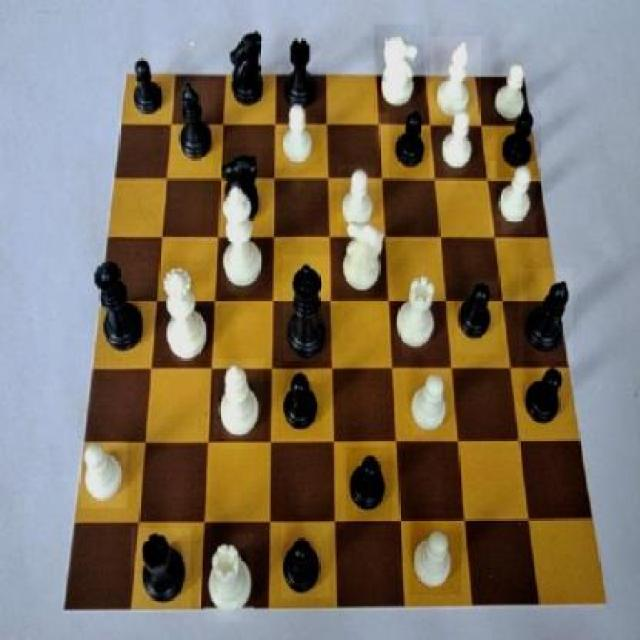bishop: (520, 268, 574, 360), (169, 81, 216, 174)
black-bishop: (283, 256, 332, 362)
black-king: (214, 148, 266, 234), (226, 23, 269, 115)
black-knight: (282, 524, 331, 598), (522, 358, 572, 428), (346, 448, 392, 524), (277, 366, 324, 439), (455, 278, 498, 354), (496, 108, 540, 178), (389, 108, 429, 178), (131, 51, 168, 121)
black-pawn: (89, 251, 143, 360)
black-queen: (131, 528, 191, 610), (276, 35, 318, 118)
black-rook: (431, 37, 481, 120), (213, 360, 264, 440)
white-bishop: (220, 182, 265, 294)
white-king: (374, 24, 424, 114), (338, 221, 388, 304)
white-knight: (411, 522, 462, 594), (404, 368, 454, 438), (491, 160, 537, 234), (80, 440, 128, 508), (437, 103, 481, 175), (337, 164, 376, 234), (277, 100, 317, 168), (491, 58, 531, 125)
white-pawn: (156, 260, 210, 368)
white-queen: (204, 534, 254, 621), (391, 272, 438, 352)
